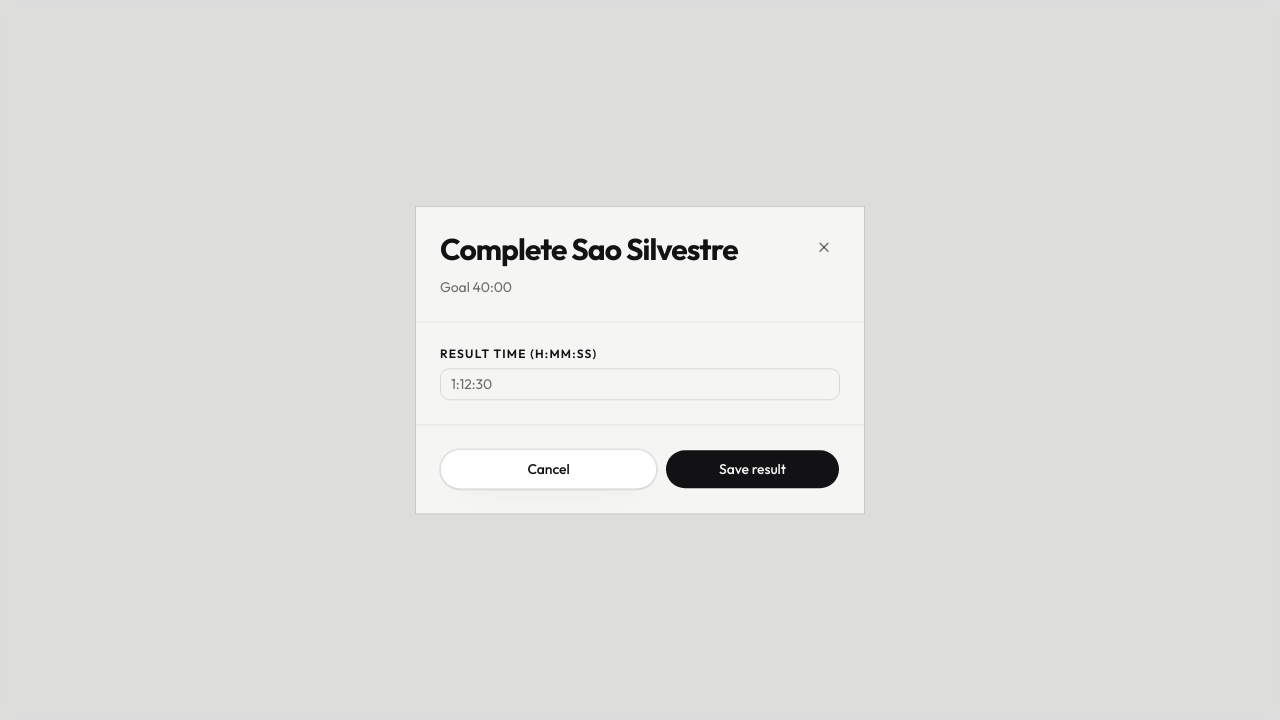
CompleteRaceDialog › rejects a time above 24 hours
Type "24:00:01" into the field with test id "complete-result". click: [640, 384]
box: 440,368 -> 840,400
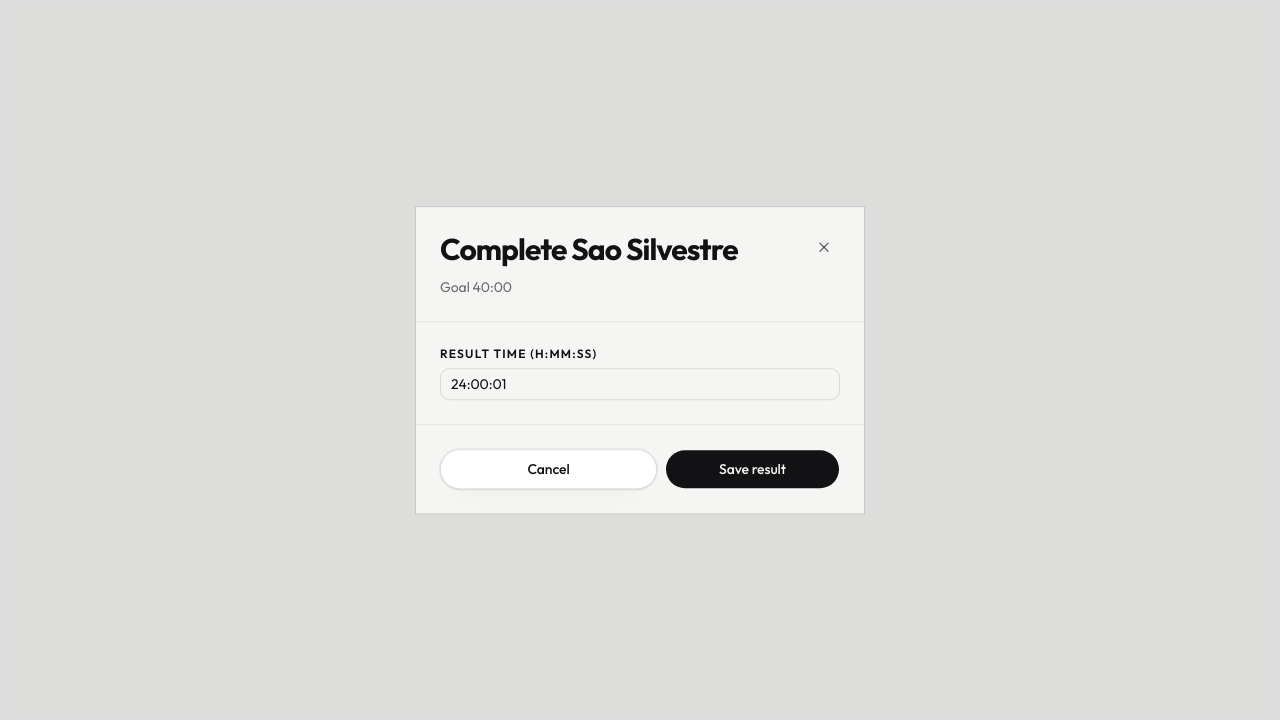
Click the button with test id "complete-submit". click: [752, 469]
box: 665,449 -> 840,489
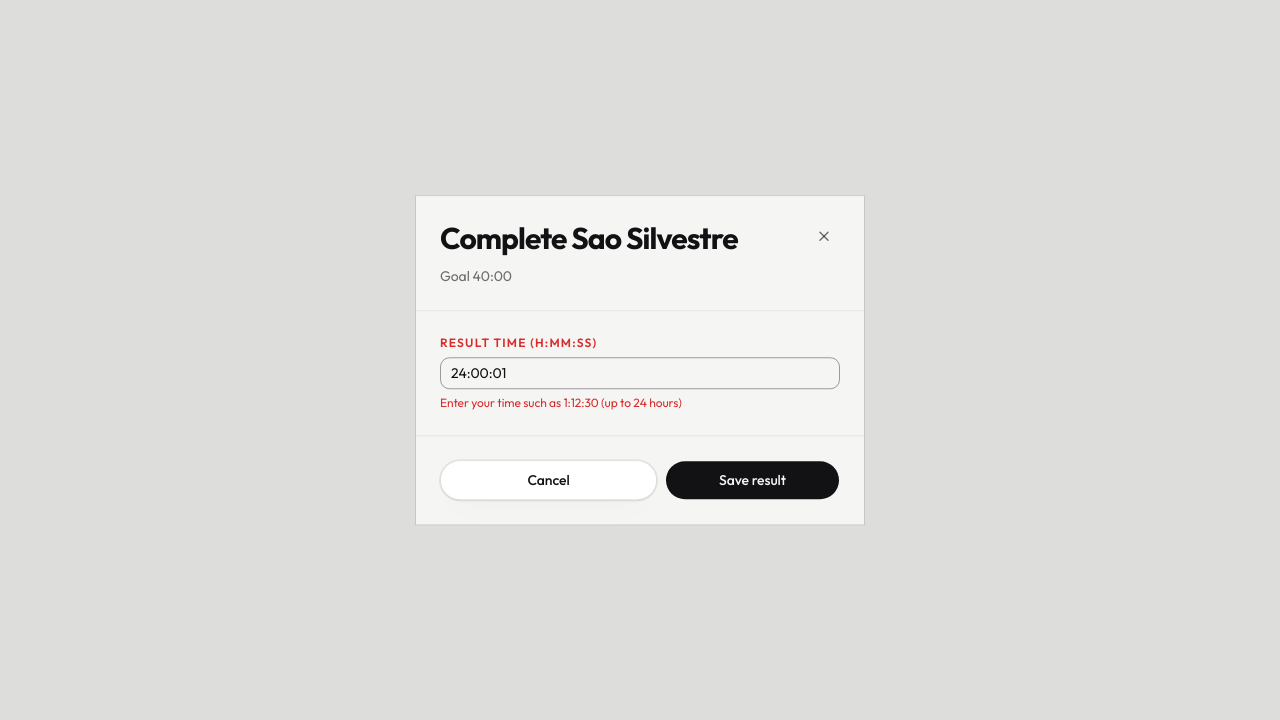
Now the text "Enter your time such as 1:12:30 (up to 24 hours)" is shown, box 440,395 -> 682,410
